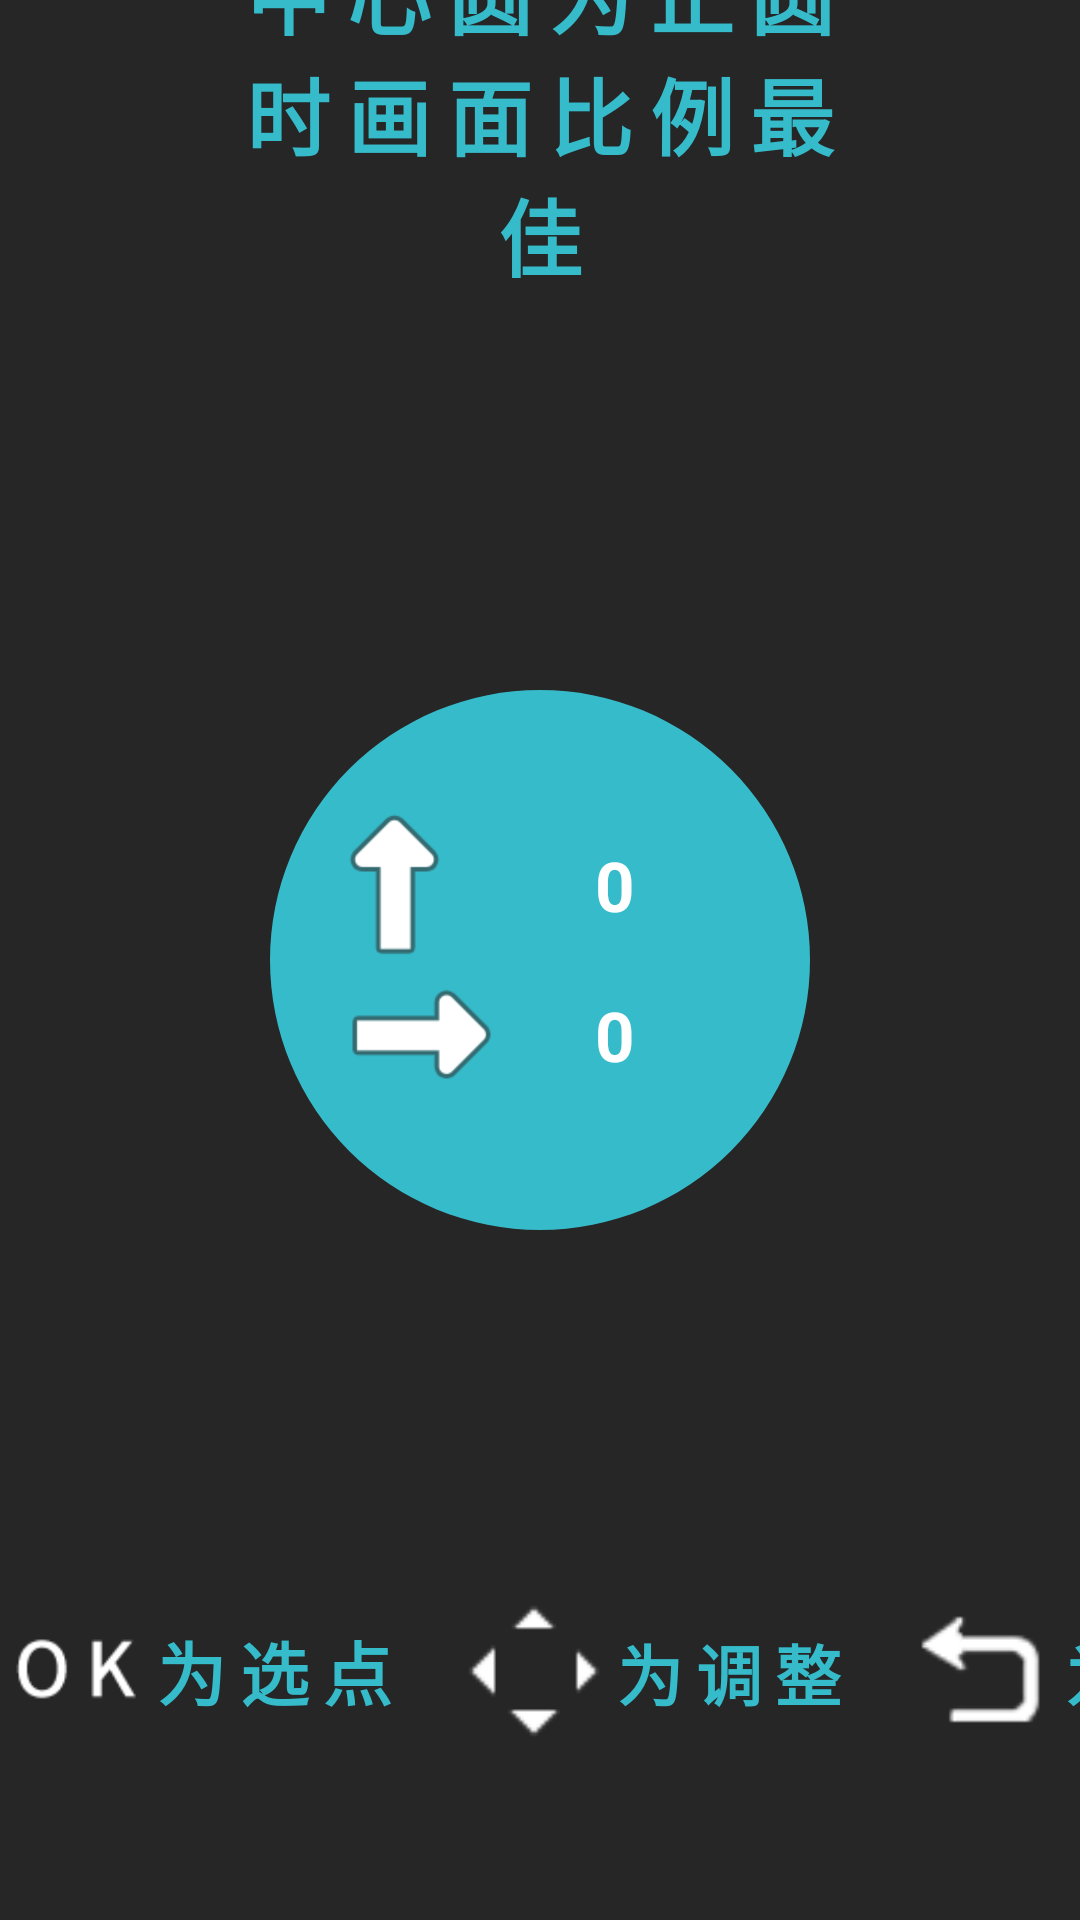

Where to tap for icons on this 1080px×1920px app screen, as (x=x, y=y):
keystone back: (x=980, y=1669)
